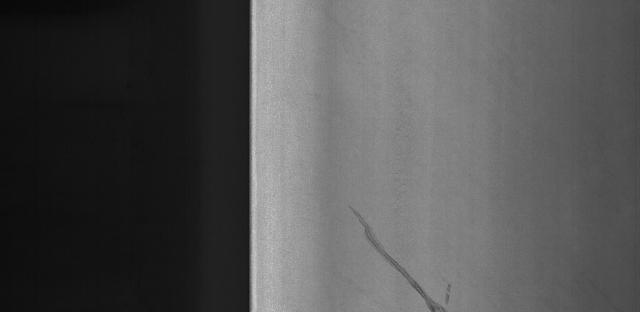water_spot: (340, 194, 475, 312)
